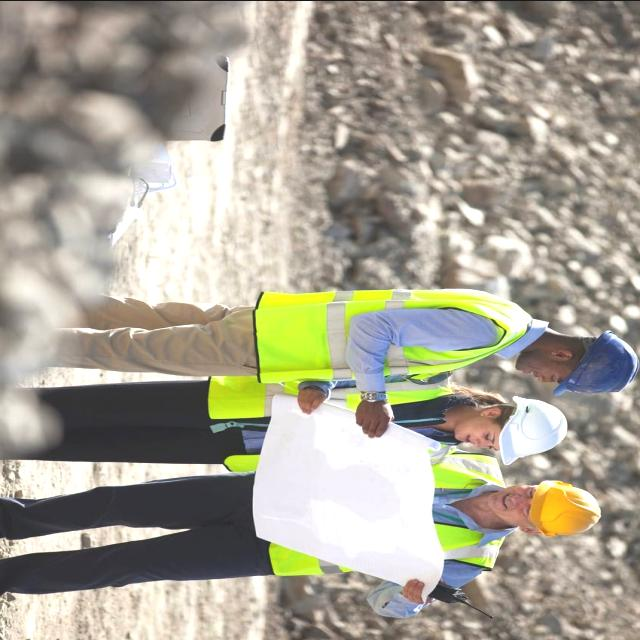Hard Hat: (554, 326, 638, 398), (495, 391, 574, 467), (525, 475, 604, 538)
Reflective Vest: (256, 450, 510, 579), (248, 283, 536, 383), (195, 370, 457, 476)
